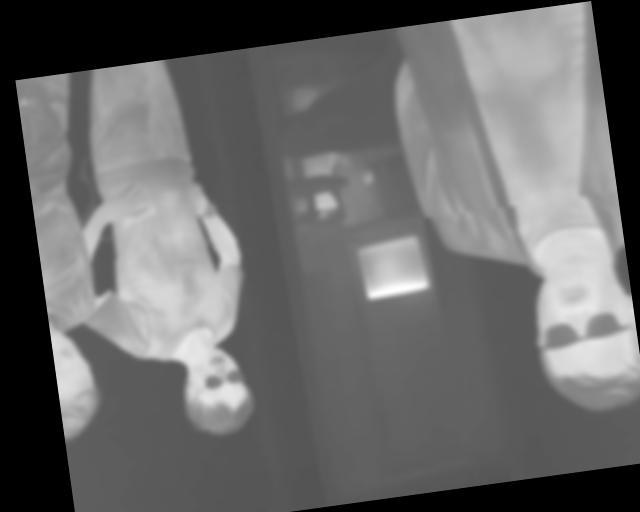face: (524, 255, 640, 420), (176, 341, 258, 441)
